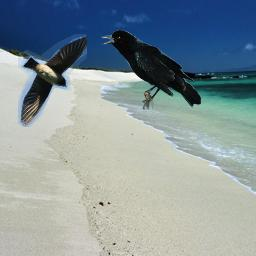Crow: (101, 30, 201, 110)
Swallow: (18, 34, 87, 127)
